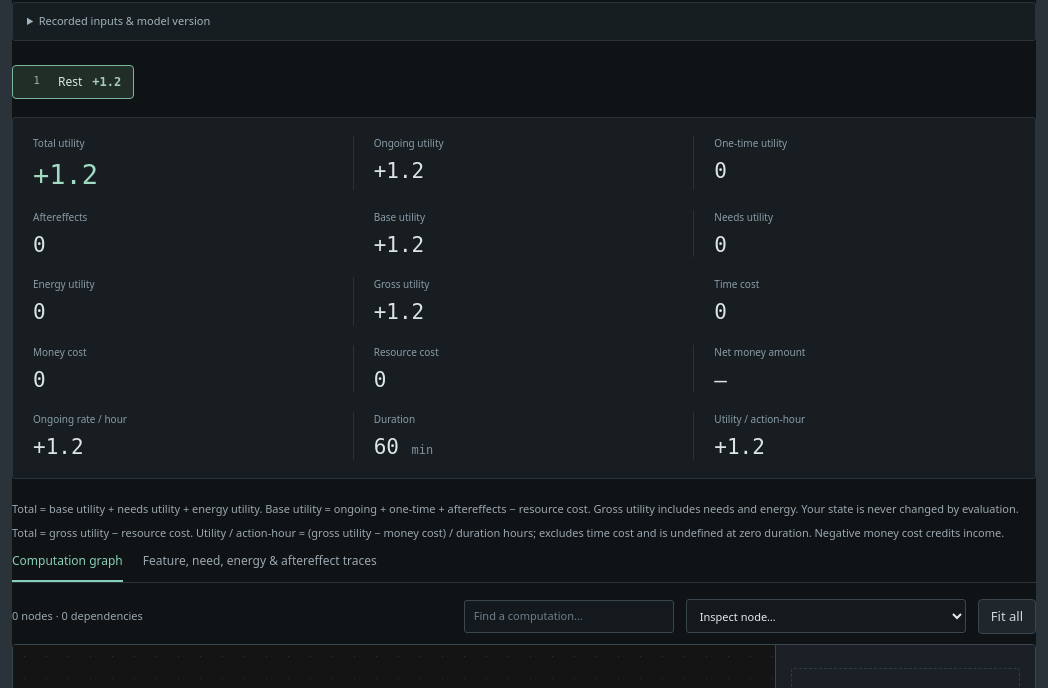
it: Mental rest energy reward presentation › retains engine 7 effort-only explanations without inventing a rest adjustment
The width and height of the screenshot is (1048, 688).
Click the button "Feature, need, energy & aftereffect traces" at (260, 562), box 143,542 -> 377,582
(page scrolled)
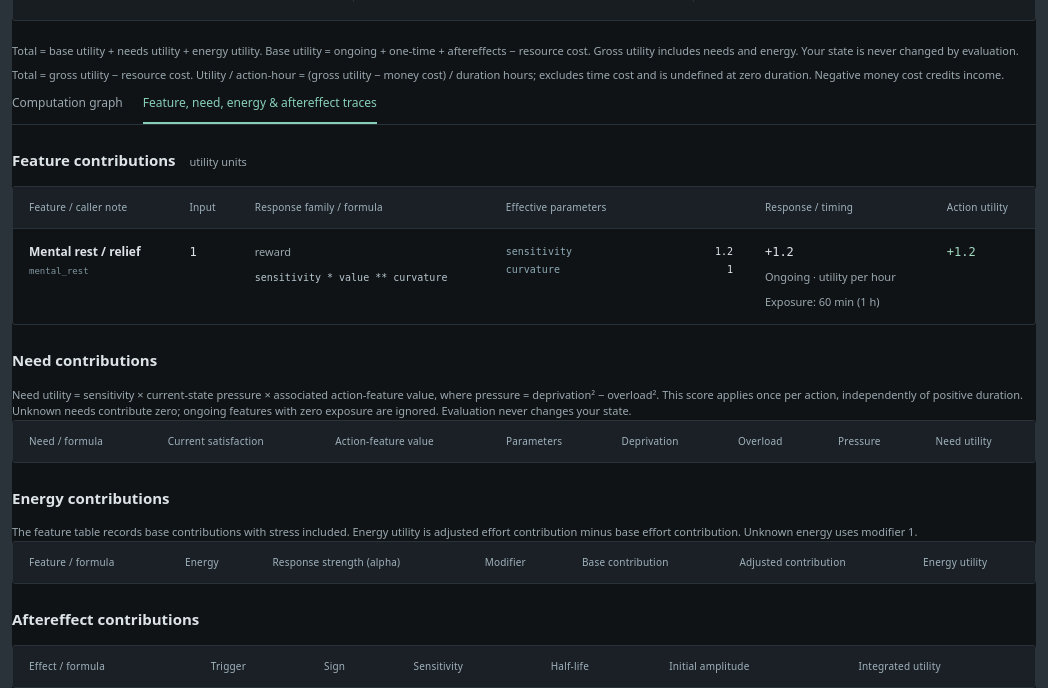
Check: the element "Energy contributions" does not show "mental rest rewards", box 12,486 -> 1036,584
Check: the element "Energy contributions" shows "adjusted effort contribution minus base effort contribution", box 352,524 -> 741,539
